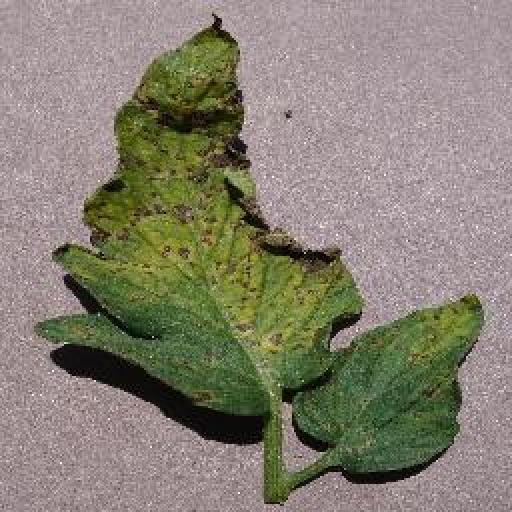disease_tomato: (30, 12, 363, 417)
